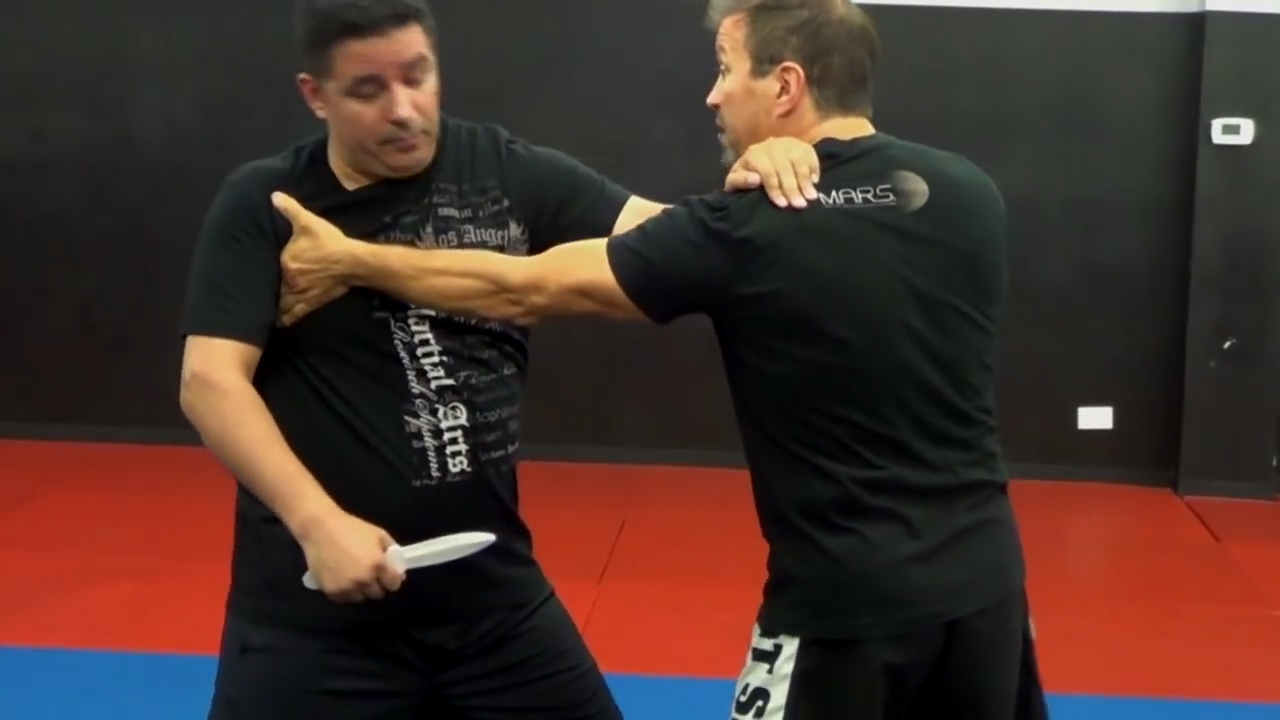knife: (295, 522, 503, 603)
